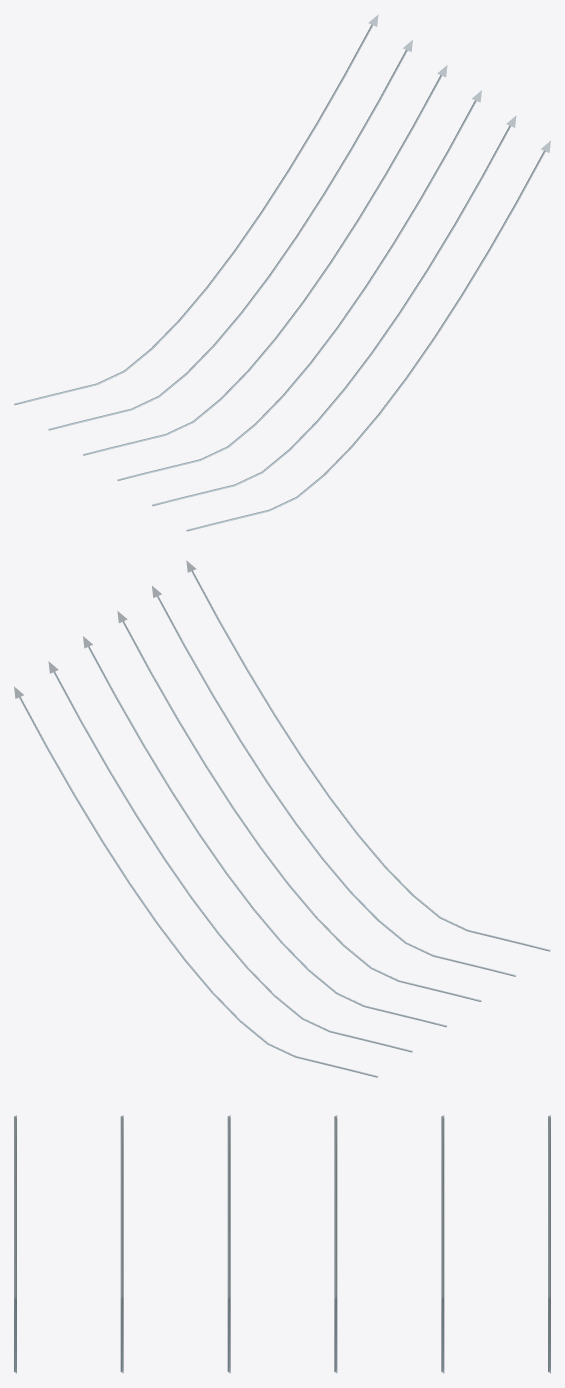
Rendered from lake-upwelling-slope-0.glb.
The picture shows the model from 3 angles, top to bottom: view 1: azimuth 30°, elevation 25°; view 2: azimuth 150°, elevation 25°; view 3: azimuth 270°, elevation 25°; orthographic projection. The views are drawn at different scales.
Visible parts, largest first — view 1: lake-upwelling-slope-0; view 2: lake-upwelling-slope-0; view 3: lake-upwelling-slope-0.
Boxes of the visible parts, x1,y1,x2,y2 form: lake-upwelling-slope-0: (14,14,550,531); lake-upwelling-slope-0: (14,560,550,1077); lake-upwelling-slope-0: (14,1115,550,1373).
Size of the model in its own units: 4.07 by 3.23 by 3.35.
